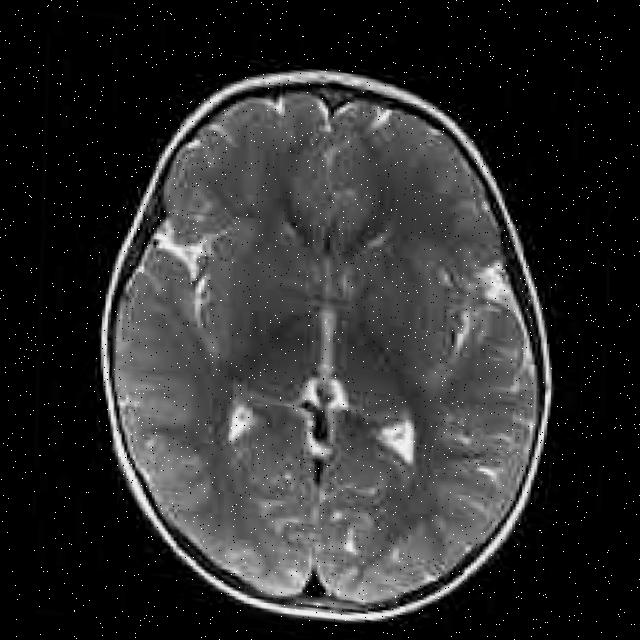NoTumor: (92, 66, 562, 632)
